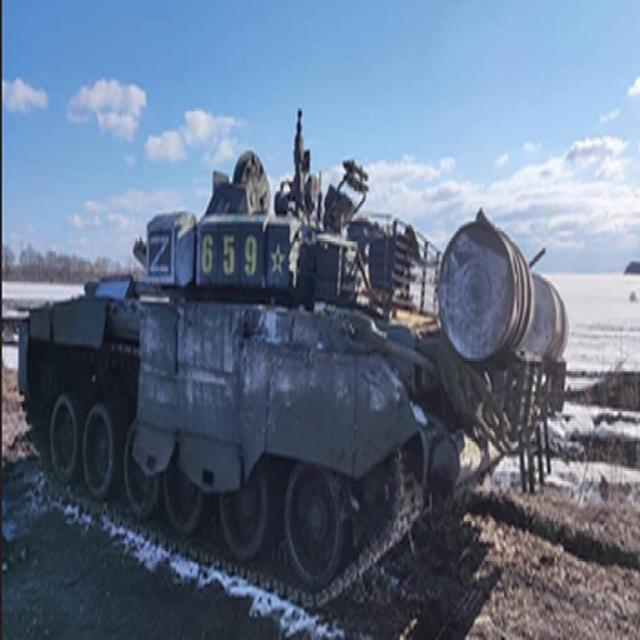TANK: (14, 149, 564, 611)
